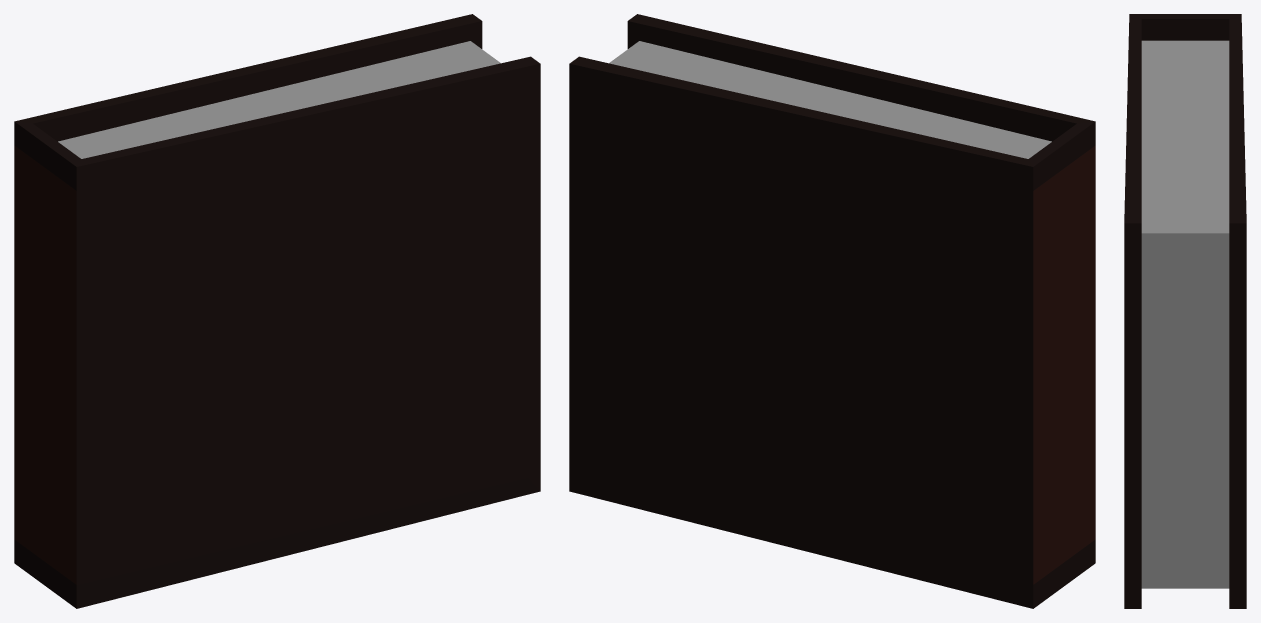
The model's file is Single Book.FBX.
3 views of the same model, side by side, from view 1: azimuth 30°, elevation 25°; view 2: azimuth 150°, elevation 25°; view 3: azimuth 270°, elevation 25° (orthographic). The views are drawn at different scales.
Parts seen in each view (by area): view 1: Box001; view 2: Box001; view 3: Box001.
Boxes of the visible parts, x1,y1,x2,y2 form: Box001: (14, 14, 540, 608); Box001: (569, 14, 1095, 608); Box001: (1124, 14, 1246, 608).
Bounding box in the file's own units: 48.9 × 44.8 × 12.48.
